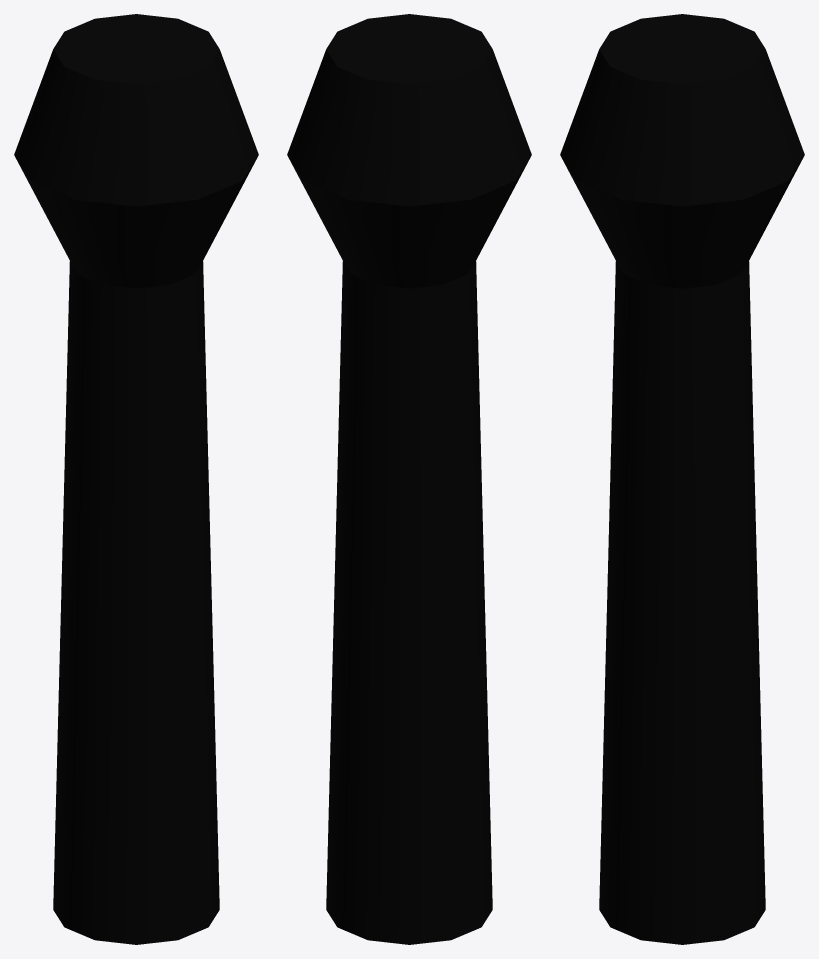
File: Tantares_DockingMechanism_1_Probe.obj
3 views of the same model, side by side, from view 1: azimuth 30°, elevation 25°; view 2: azimuth 150°, elevation 25°; view 3: azimuth 270°, elevation 25° (orthographic).
Parts seen in each view (by area): view 1: Tantares_DockingMechanism_1_Probe; view 2: Tantares_DockingMechanism_1_Probe; view 3: Tantares_DockingMechanism_1_Probe.
Boxes of the visible parts, x1=… form: Tantares_DockingMechanism_1_Probe: x1=14, y1=14, x2=258, y2=944; Tantares_DockingMechanism_1_Probe: x1=287, y1=14, x2=531, y2=944; Tantares_DockingMechanism_1_Probe: x1=560, y1=14, x2=804, y2=944.
Size of the model in its own units: 0.0735 by 0.285 by 0.0735.
1 material, 1 textured.
